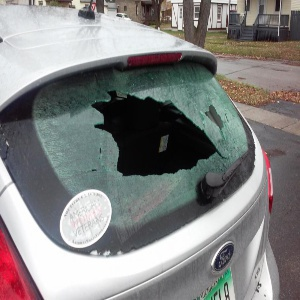rear_windshield_glass: (52, 84, 242, 174)
